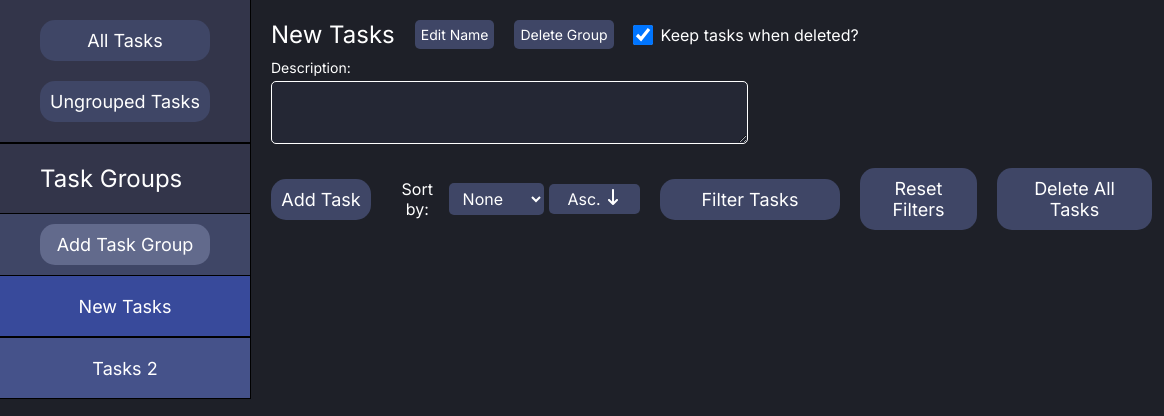
it: MainPage › Editing the name of a task group must update the name of the task group button on the left › Edit name of task group to update the task group button's name
This screenshot has width=1164, height=416.
Click the button with test id "group-edit-name-button": (455, 34) [415,20,494,49]
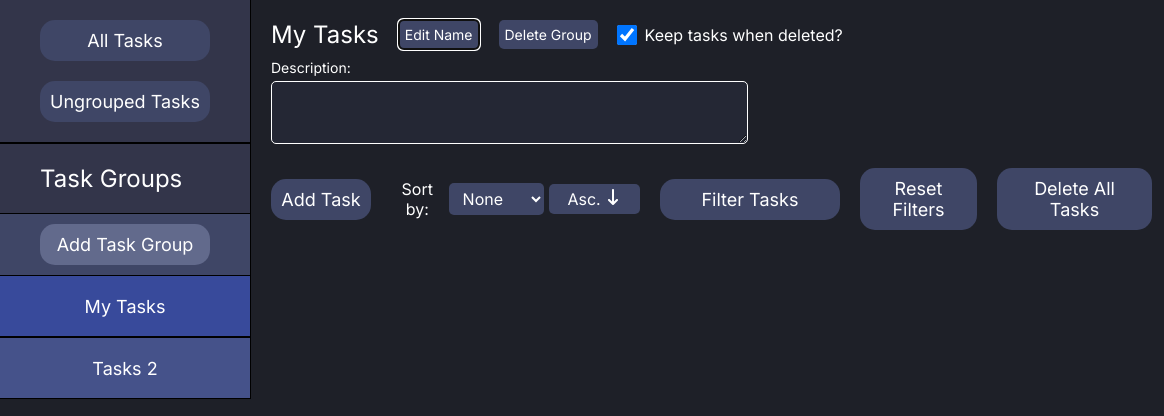
Check: the text "Tasks 2" is shown, box [0,337,250,399]
Check: the text "My Tasks" below "Task Groups" is shown, box [85,296,165,316]
